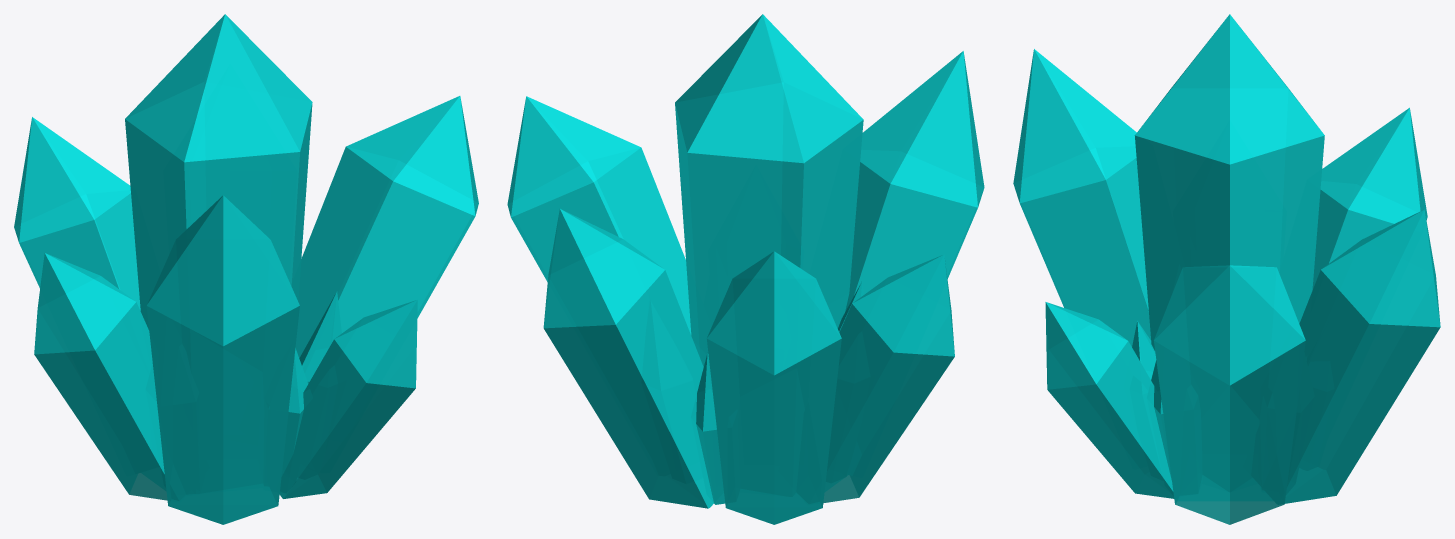
Rendered from Diamond.fbx.
The picture shows the model from 3 angles, left to right: view 1: azimuth 30°, elevation 25°; view 2: azimuth 150°, elevation 25°; view 3: azimuth 270°, elevation 25°; orthographic projection.
Visible parts, largest first — view 1: Icosphere; view 2: Icosphere; view 3: Icosphere.
Part boxes in pixels (x1,y1,x2,y2): Icosphere: (14,14,478,524); Icosphere: (507,14,984,524); Icosphere: (1013,14,1440,524).
Bounding box in the file's own units: 635 × 624 × 533.
